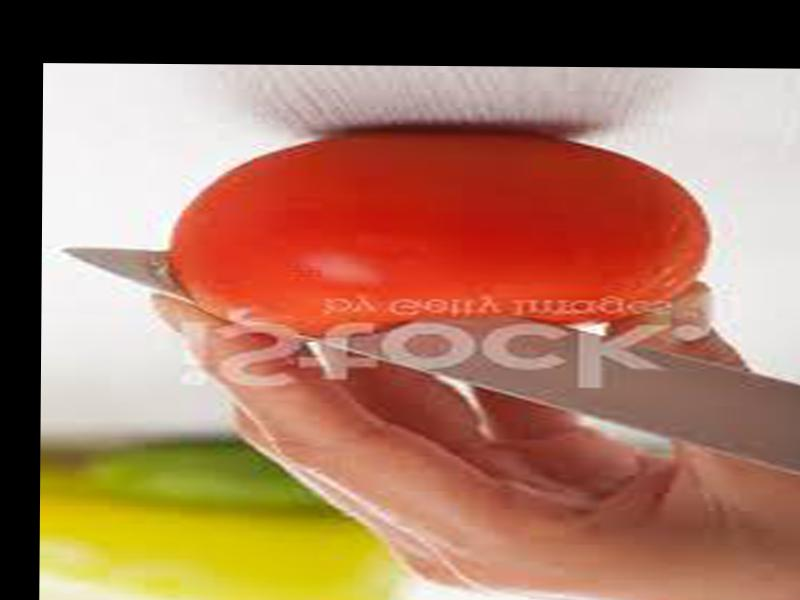Tomato: (168, 124, 716, 338)
